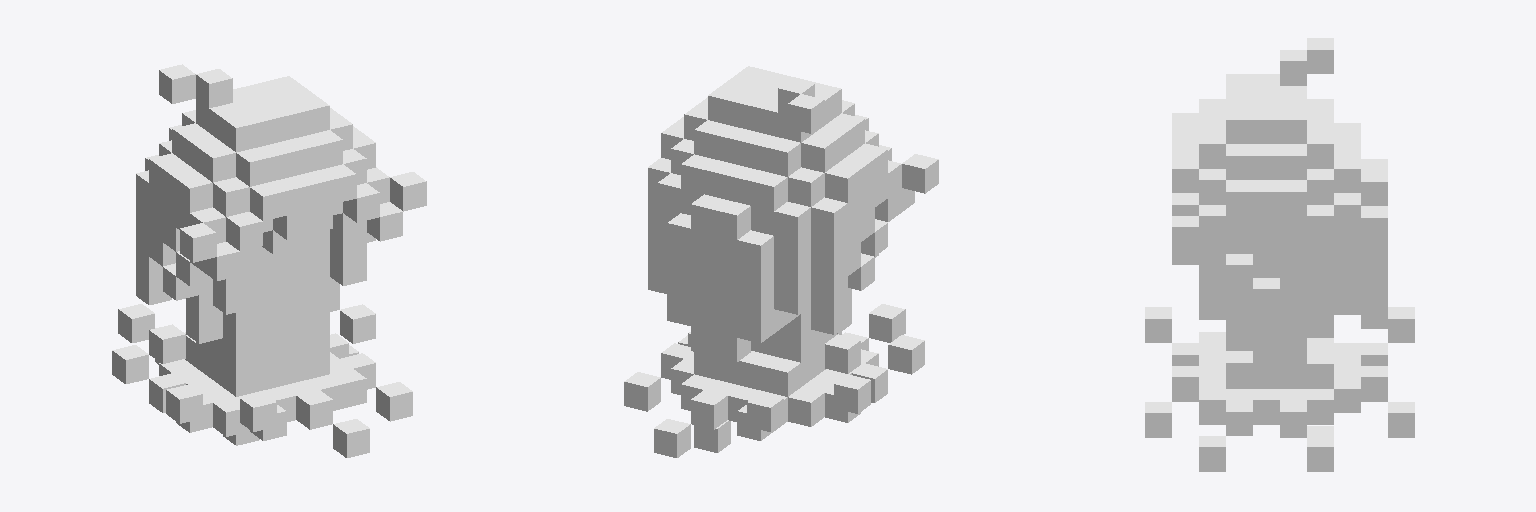
File: HaleyKelp_walk0.obj
3 views of the same model, side by side, from view 1: azimuth 30°, elevation 25°; view 2: azimuth 150°, elevation 25°; view 3: azimuth 270°, elevation 25° (orthographic).
Parts seen in each view (by area): view 1: object 1; view 2: object 1; view 3: object 1.
Part boxes in pixels (bbox=[...]): object 1: bbox=[112, 64, 426, 457]; object 1: bbox=[624, 66, 938, 457]; object 1: bbox=[1145, 38, 1414, 471].
Bounding box in the file's own units: 1 × 1.5 × 1.